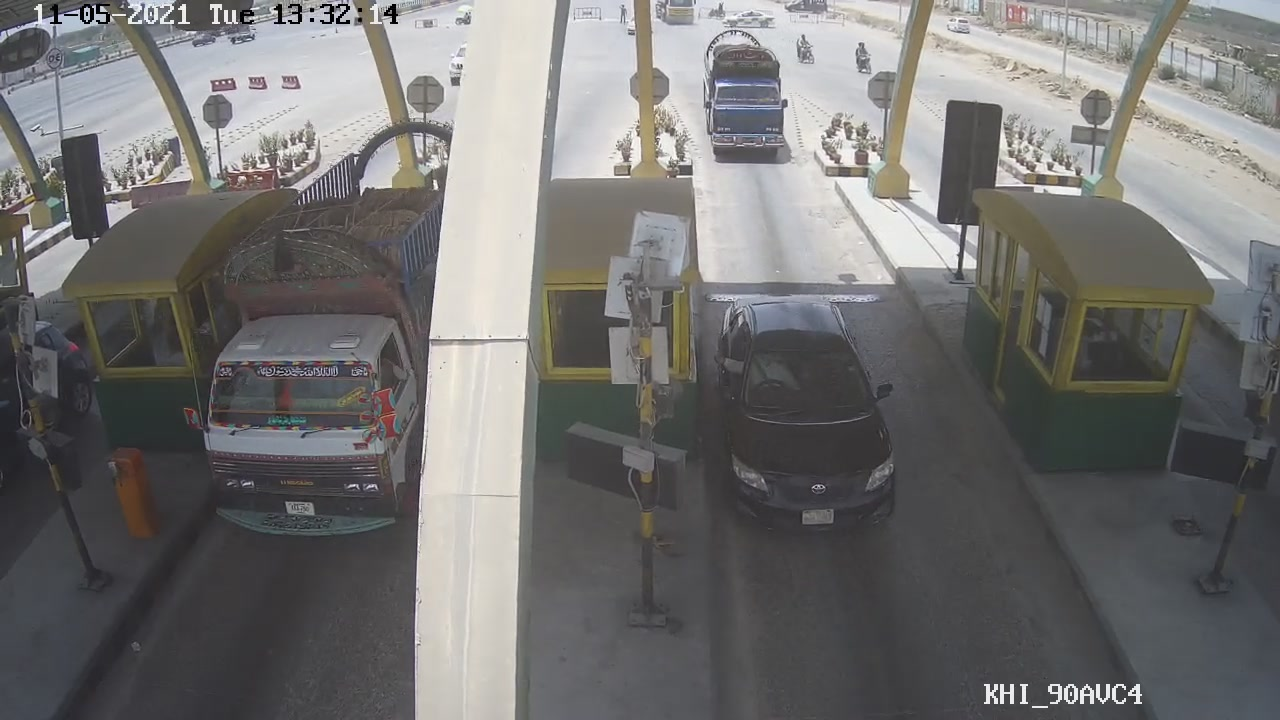F1: (710, 286, 904, 540)
